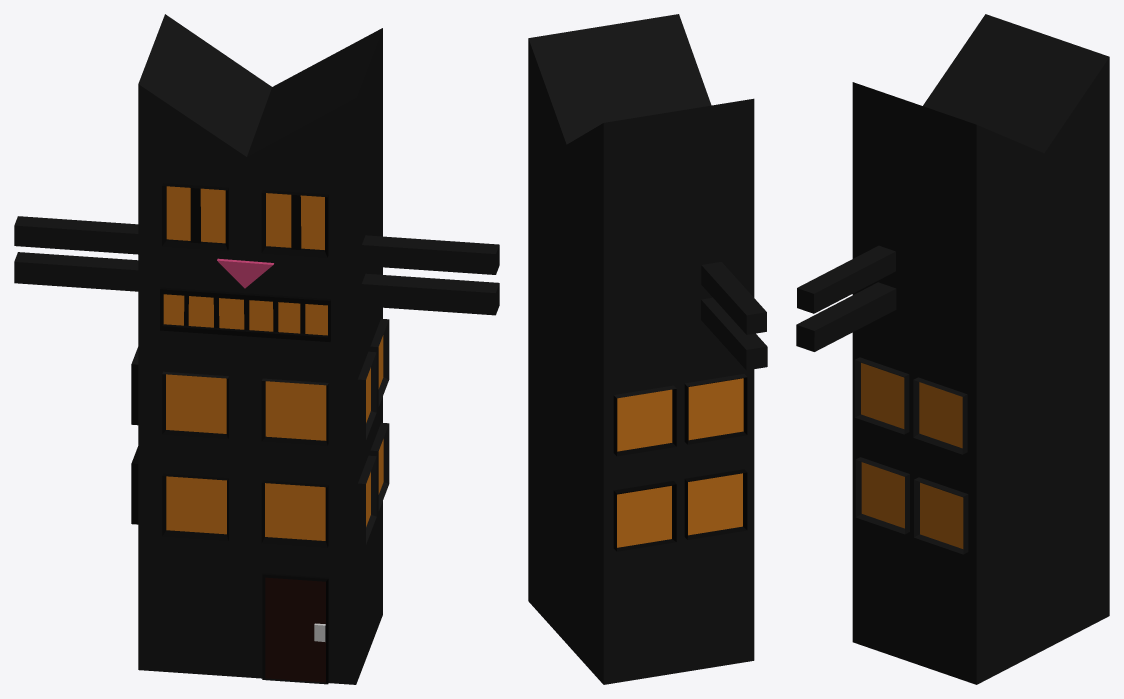
Rendered from Building2.FBX.
3 views of the same model, side by side, from view 1: azimuth 30°, elevation 25°; view 2: azimuth 150°, elevation 25°; view 3: azimuth 270°, elevation 25° (orthographic). The views are drawn at different scales.
Parts seen in each view (by area): view 1: Cube; view 2: Cube; view 3: Cube.
Boxes of the visible parts, box(x1,y1,x2,y2) form: Cube: box(14, 14, 499, 684); Cube: box(528, 14, 767, 684); Cube: box(796, 14, 1109, 684).
Bounding box in the file's own units: 6816 × 11222 × 5690.
